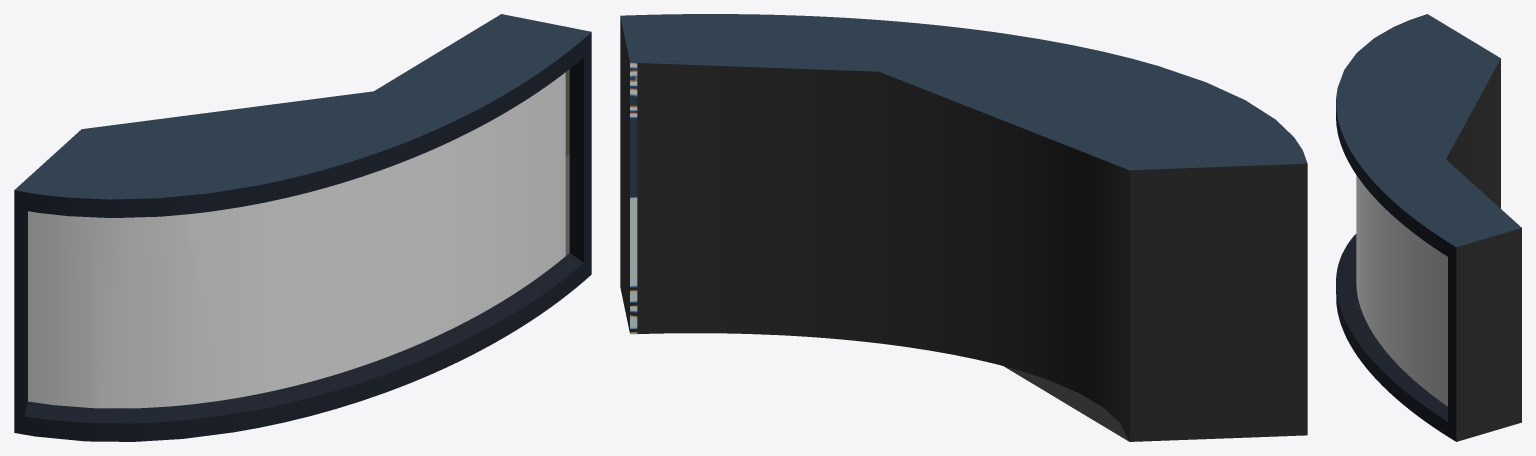
File: SM_Env_Reception_Desk.fbx
3 views of the same model, side by side, from view 1: azimuth 30°, elevation 25°; view 2: azimuth 150°, elevation 25°; view 3: azimuth 270°, elevation 25° (orthographic). The views are drawn at different scales.
Visible parts, largest first — view 1: Reception_Desk; view 2: Reception_Desk; view 3: Reception_Desk.
Boxes of the visible parts, x1,y1,x2,y2 form: Reception_Desk: (14,14,591,441); Reception_Desk: (620,14,1307,441); Reception_Desk: (1336,14,1521,441).
Bounding box in the file's own units: 2.83 × 1.1 × 0.9522.
